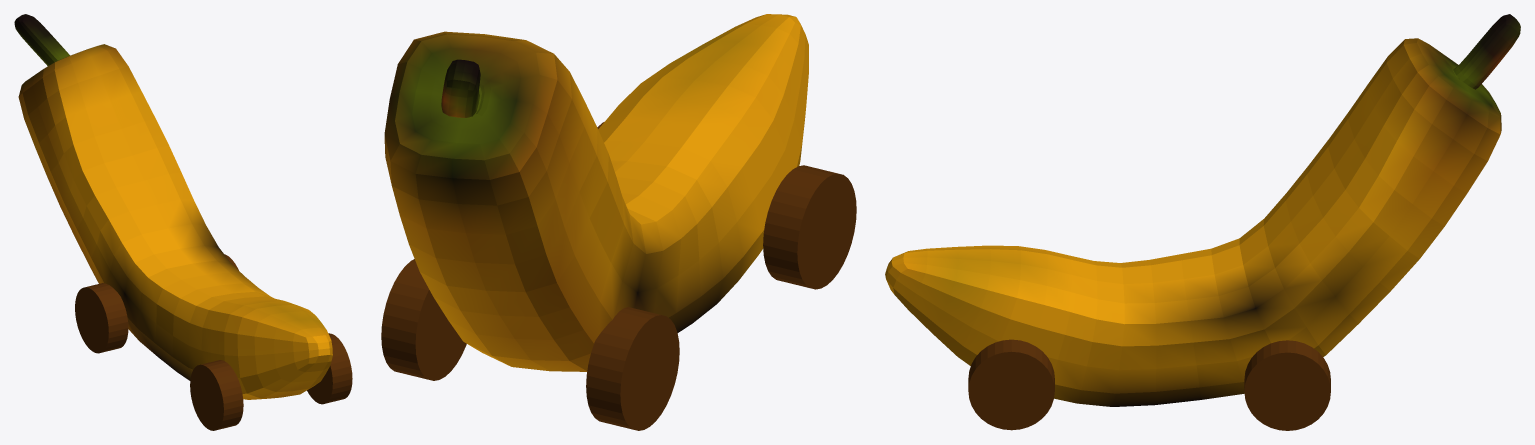
File: Autitobananafeoredondo.fbx
The picture shows the model from 3 angles, left to right: view 1: azimuth 30°, elevation 25°; view 2: azimuth 150°, elevation 25°; view 3: azimuth 270°, elevation 25°; orthographic projection. The views are drawn at different scales.
Parts seen in each view (by area): view 1: BananaCar, Rueda-AD, Rueda-TD, Rueda-AI; view 2: BananaCar, Rueda-AD, Rueda-TD, Rueda-TI; view 3: BananaCar, Rueda-TI, Rueda-AI.
Part boxes in pixels (x1,y1,x2,y2): BananaCar: (14,14,332,399); Rueda-AD: (190,360,243,430); Rueda-TD: (75,283,128,353); Rueda-AI: (307,333,352,404); BananaCar: (384,14,808,371); Rueda-AD: (763,165,856,289); Rueda-TD: (586,307,679,430); Rueda-TI: (381,259,466,380); BananaCar: (885,14,1520,406); Rueda-TI: (1244,340,1330,430); Rueda-AI: (968,339,1054,430).
Size of the model in its own units: 473 by 878 by 1469.
